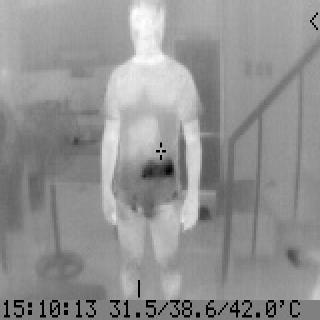Gun: (142, 158, 176, 220)
